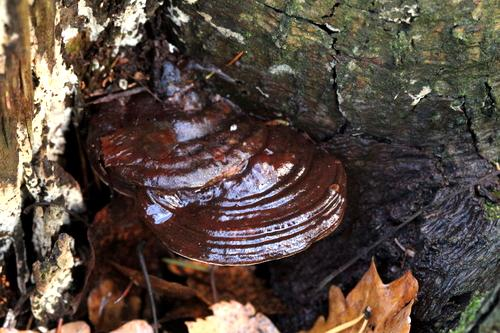Ganoderma - Fruit Body: (88, 87, 347, 268)
